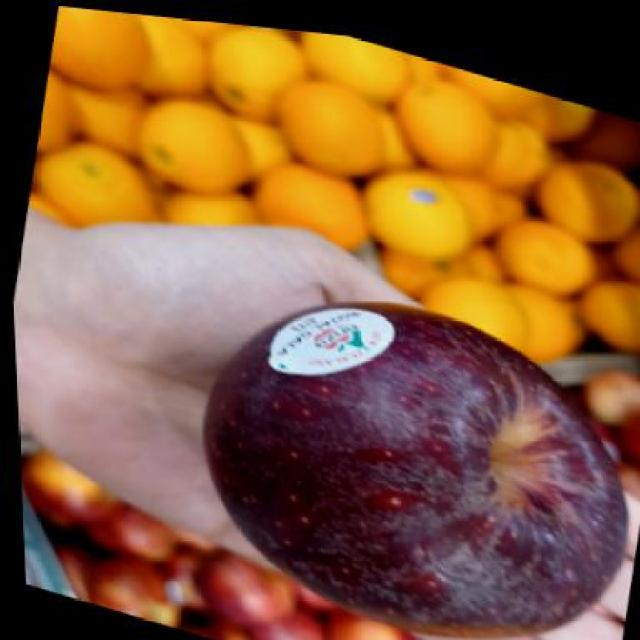Fresh Apple: (245, 298, 623, 637)
